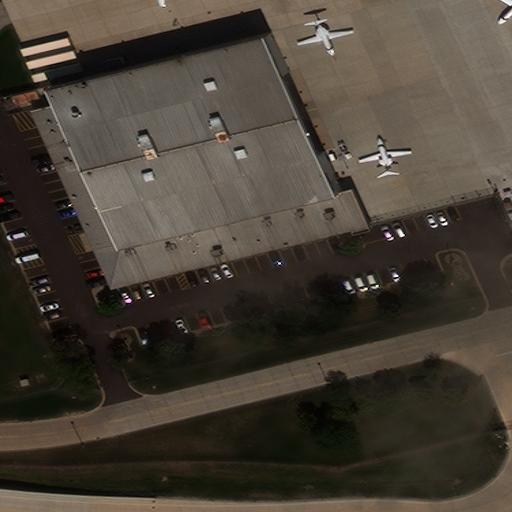Medium Civil Transport: (491, 0, 511, 24)
Small Civil Transport: (297, 20, 354, 56), (358, 137, 410, 175)
